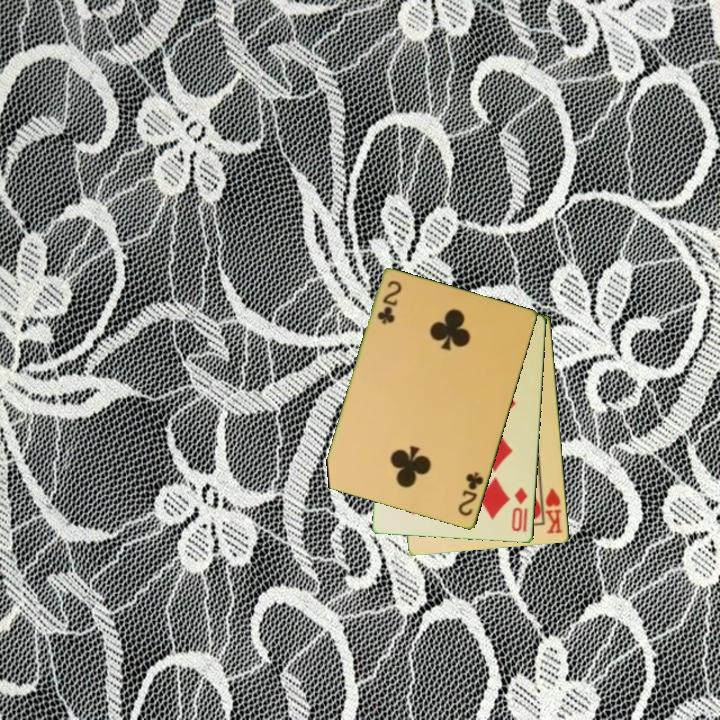10d: (508, 484, 531, 535)
2c: (455, 469, 487, 520), (374, 277, 405, 328)
Kh: (538, 482, 565, 537)
